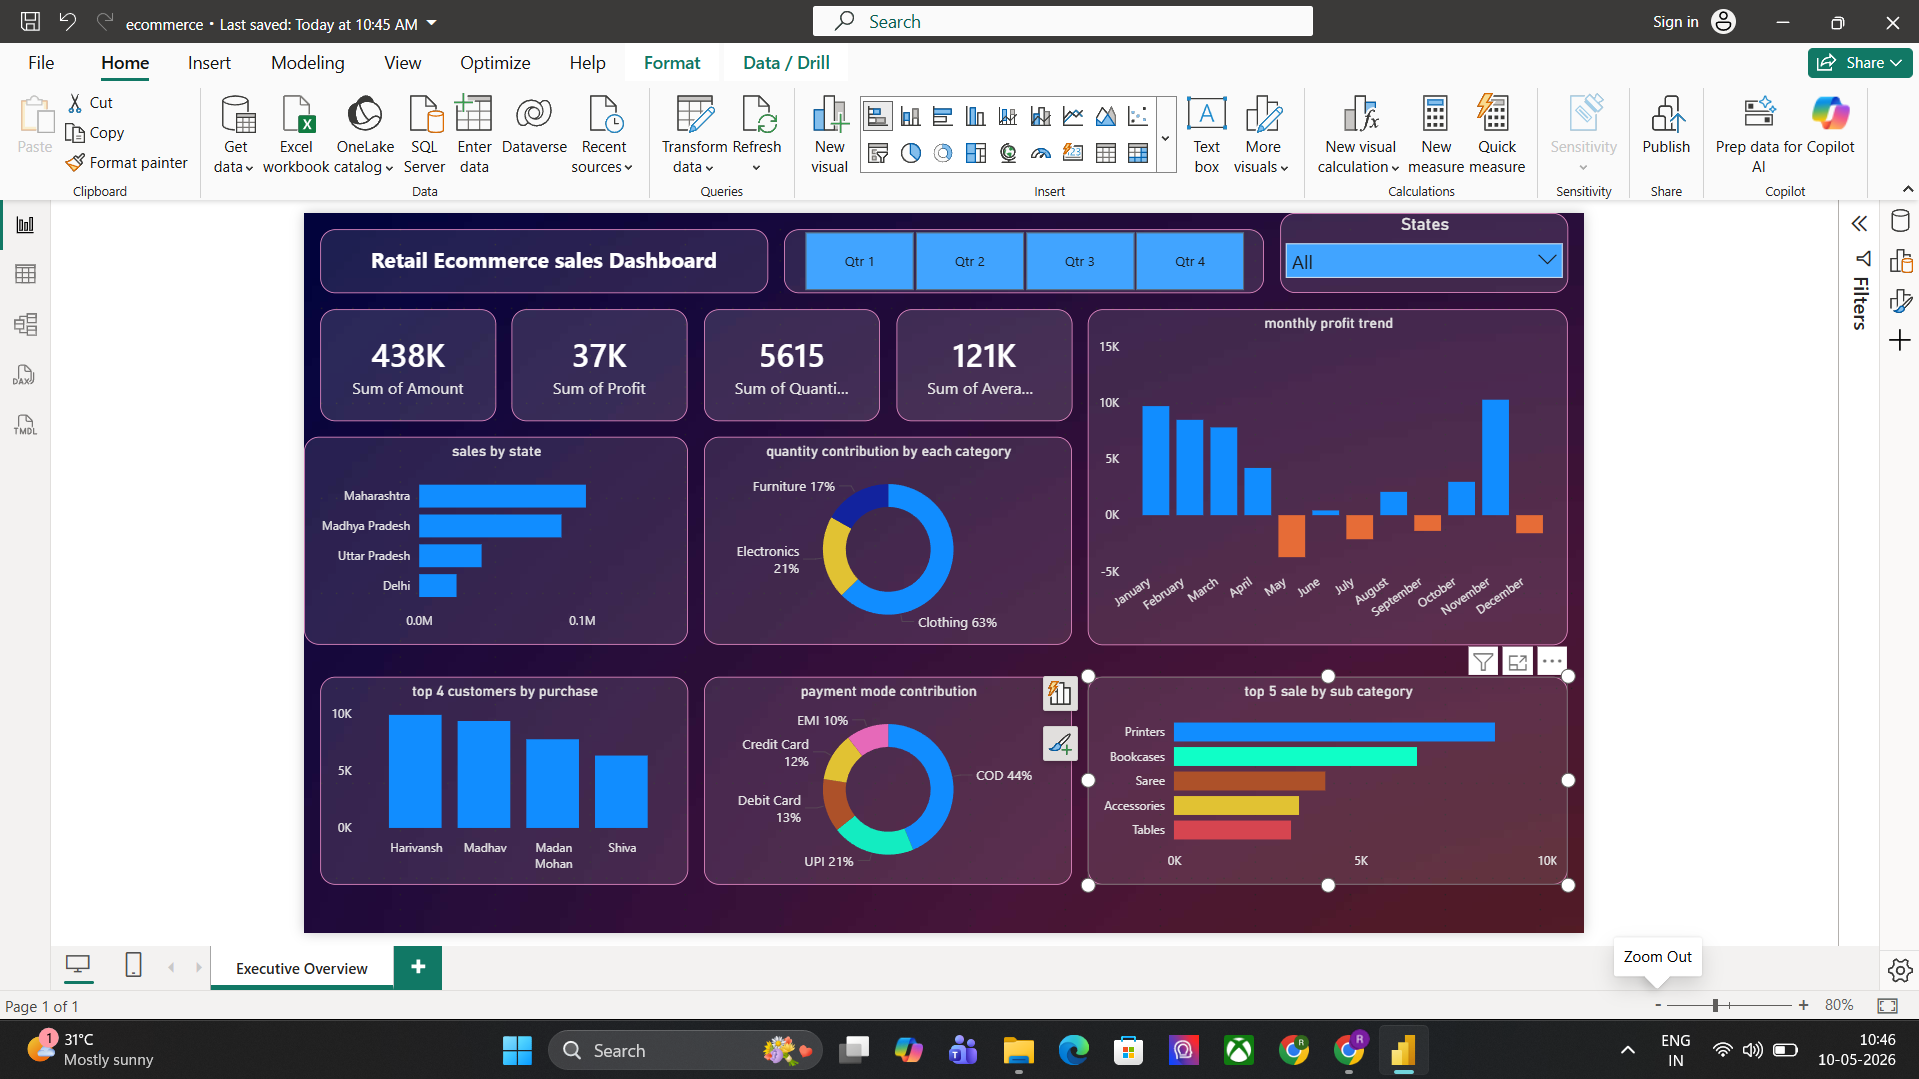

The dashboard page shown, as its layout file describes it:
{"tool":"powerbi","page":{"name":"Page 1","canvas":[1280,720],"ordinal":0},"visuals":[{"type":"textbox","box":[16,16,448,64],"z":0},{"type":"columnChart","title":" Profit by Month","fields":{"Category":["Orders.Order Date.Variation.Date Hierarchy.Month"],"Y":["Sum(Details.Profit)"]},"box":[784,96,480,336],"z":1000},{"type":"barChart","fields":{"Category":["Details.Sub-Category"],"Y":["Sum(Details.Profit)"]},"box":[784,464,480,208],"z":2000},{"type":"donutChart","fields":{"Category":["Details.Category"],"Y":["Sum(Details.Quantity)"]},"box":[400,224,368,208],"z":3000},{"type":"donutChart","fields":{"Y":["Sum(Details.Quantity)"],"Category":["Details.PaymentMode"]},"box":[400,464,368,208],"z":4000},{"type":"cardVisual","fields":{"Data":["Sum(Details.Amount)"]},"box":[16,96,176,112],"z":5000},{"type":"cardVisual","fields":{"Data":["Sum(Details.Profit)"]},"box":[208,96,176,112],"z":6000},{"type":"cardVisual","fields":{"Data":["Sum(Details.Average Order Value)"]},"box":[592,96,176,112],"z":7000},{"type":"cardVisual","fields":{"Data":["Sum(Details.Quantity)"]},"box":[400,96,176,112],"z":8000},{"type":"barChart","fields":{"Category":["Orders.State"],"Y":["Sum(Details.Amount)"]},"box":[0,224,384,208],"z":9000},{"type":"columnChart","fields":{"Category":["Orders.CustomerName"],"Y":["Sum(Details.Amount)"]},"box":[16,464,368,208],"z":10000},{"type":"slicer","fields":{"Values":["Orders.Order Date.Variation.Date Hierarchy.Quarter"]},"box":[480,16,480,64],"z":11000},{"type":"slicer","title":"States","fields":{"Values":["Orders.State"]},"box":[976,0,288,80],"z":12000}]}

Visuals, with their boxes on the page's 1280x720 design canvas (x1, y1, x2, y2). These are canvas units, not pixel positions in the 1919x1079 screenshot, which may show the page scaled, cropped or inside an application window:
textbox: <bbox>16, 16, 464, 80</bbox>
" Profit by Month" columnChart: <bbox>784, 96, 1264, 432</bbox>
barChart - Details.Sub-Category x Sum(Details.Profit): <bbox>784, 464, 1264, 672</bbox>
donutChart - Details.Category x Sum(Details.Quantity): <bbox>400, 224, 768, 432</bbox>
donutChart - Sum(Details.Quantity) x Details.PaymentMode: <bbox>400, 464, 768, 672</bbox>
cardVisual - Sum(Details.Amount): <bbox>16, 96, 192, 208</bbox>
cardVisual - Sum(Details.Profit): <bbox>208, 96, 384, 208</bbox>
cardVisual - Sum(Details.Average Order Value): <bbox>592, 96, 768, 208</bbox>
cardVisual - Sum(Details.Quantity): <bbox>400, 96, 576, 208</bbox>
barChart - Orders.State x Sum(Details.Amount): <bbox>0, 224, 384, 432</bbox>
columnChart - Orders.CustomerName x Sum(Details.Amount): <bbox>16, 464, 384, 672</bbox>
slicer - Orders.Order Date.Variation.Date Hierarchy.Quarter: <bbox>480, 16, 960, 80</bbox>
"States" slicer: <bbox>976, 0, 1264, 80</bbox>
